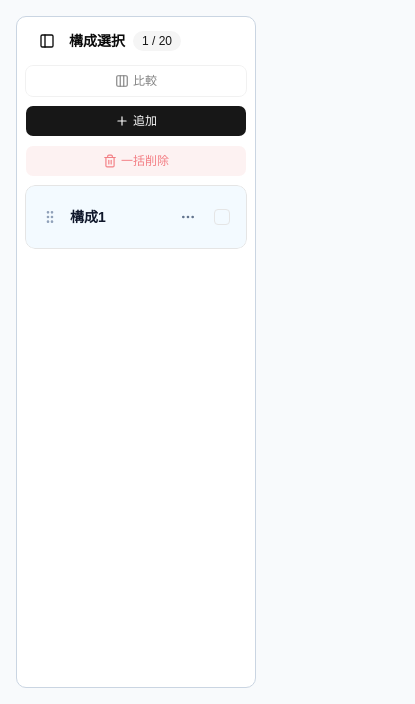
Test: ConfigList（未ログイン時） › 構成が1件でも削除を出す
Click the button named "構成1の操作メニュー".
click(188, 217)  # box [174,203,202,231]
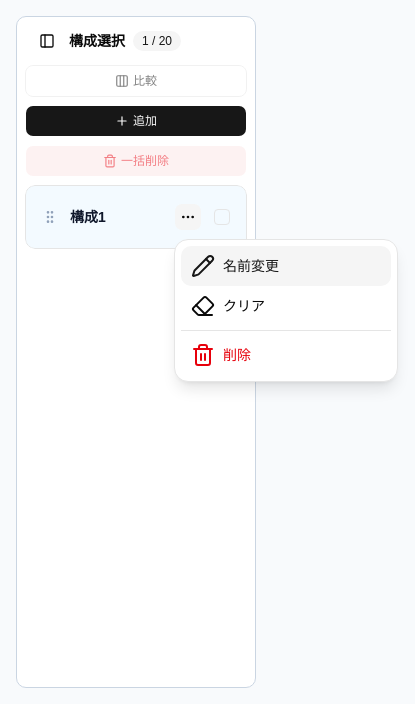
Expected: the menu item "名前変更" is shown, [181,246,391,286]
Expected: the menu item "クリア" is shown, [191,294,265,318]
Expected: the menu item "削除" is shown, [191,343,251,367]
